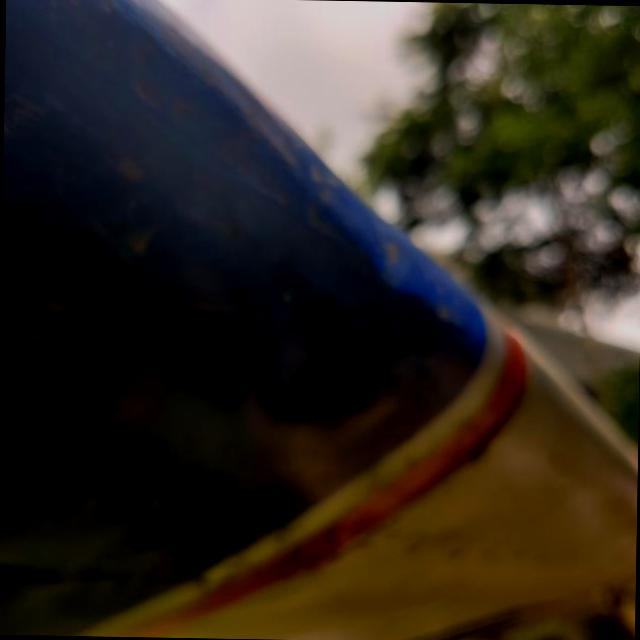dent: (220, 294, 412, 464)
